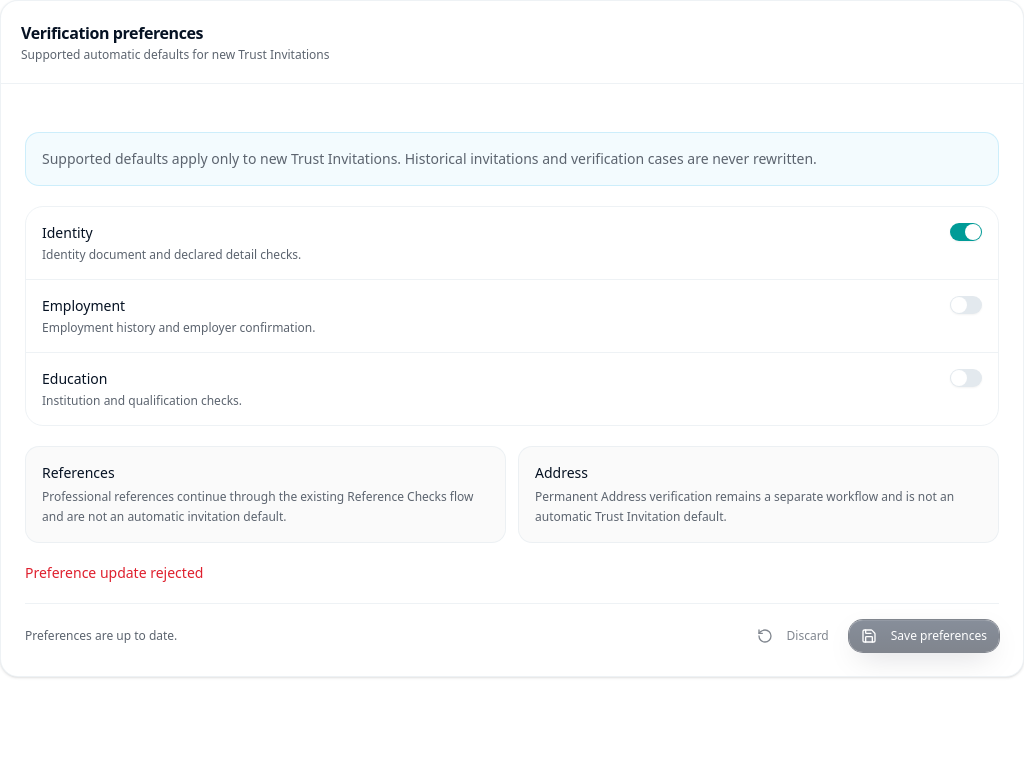
Test: VerificationPreferencesSettings › renders backend save errors without losing the edited form
Click the switch named "Enable Employment": (966, 305) [950, 296, 982, 314]
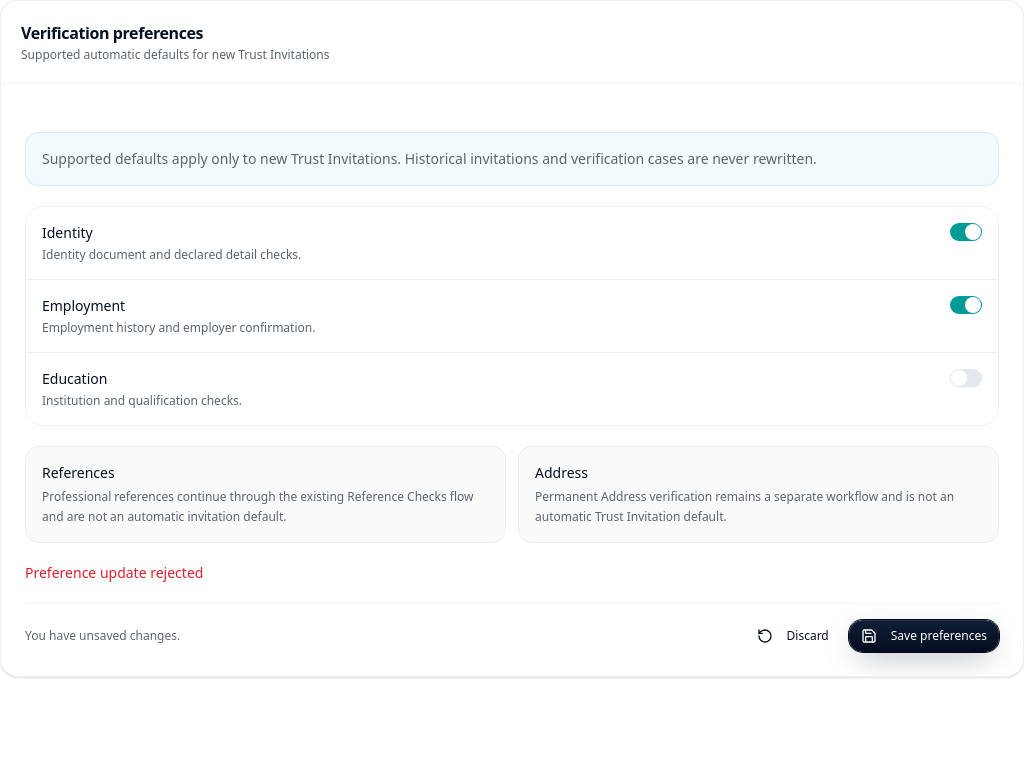
Expected: the message reads "Preference update rejected", [25, 563, 203, 582]
Expected: the text "You have unsaved changes." is shown, [25, 628, 180, 644]
